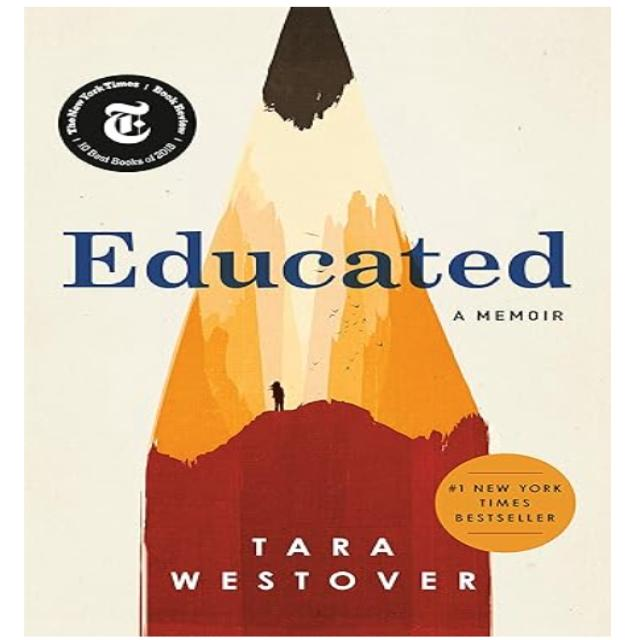titles-or-authors: (50, 221, 586, 297), (157, 530, 486, 598)
